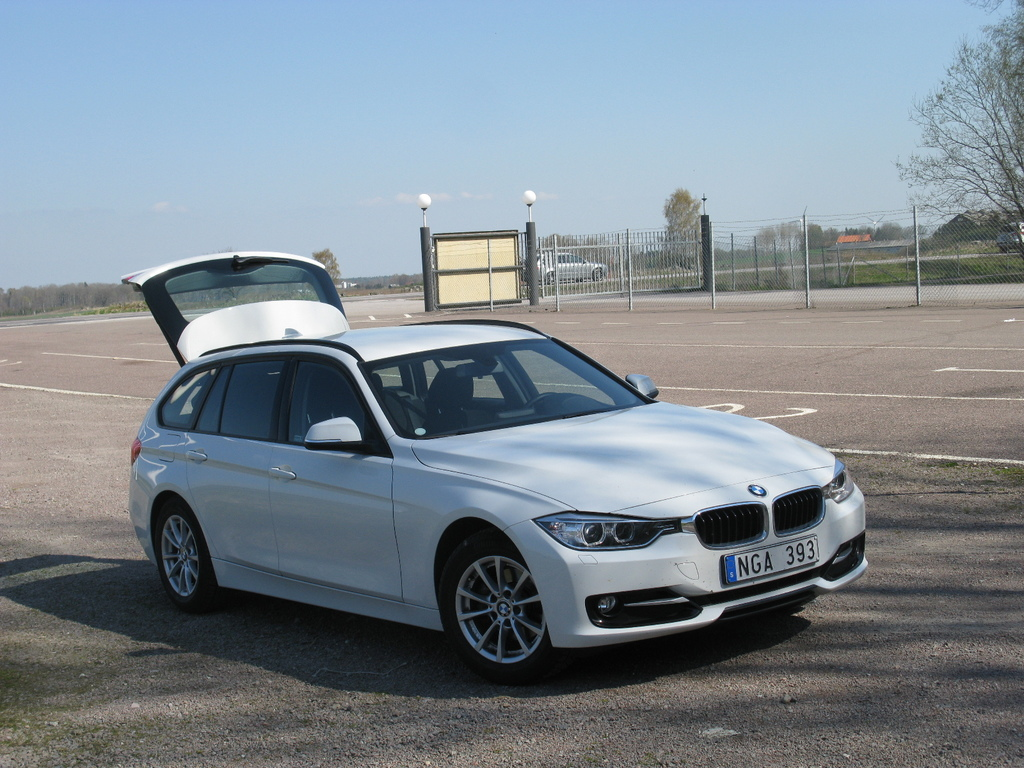Car: (121, 324, 852, 671), (518, 251, 609, 282), (995, 223, 1023, 251)
